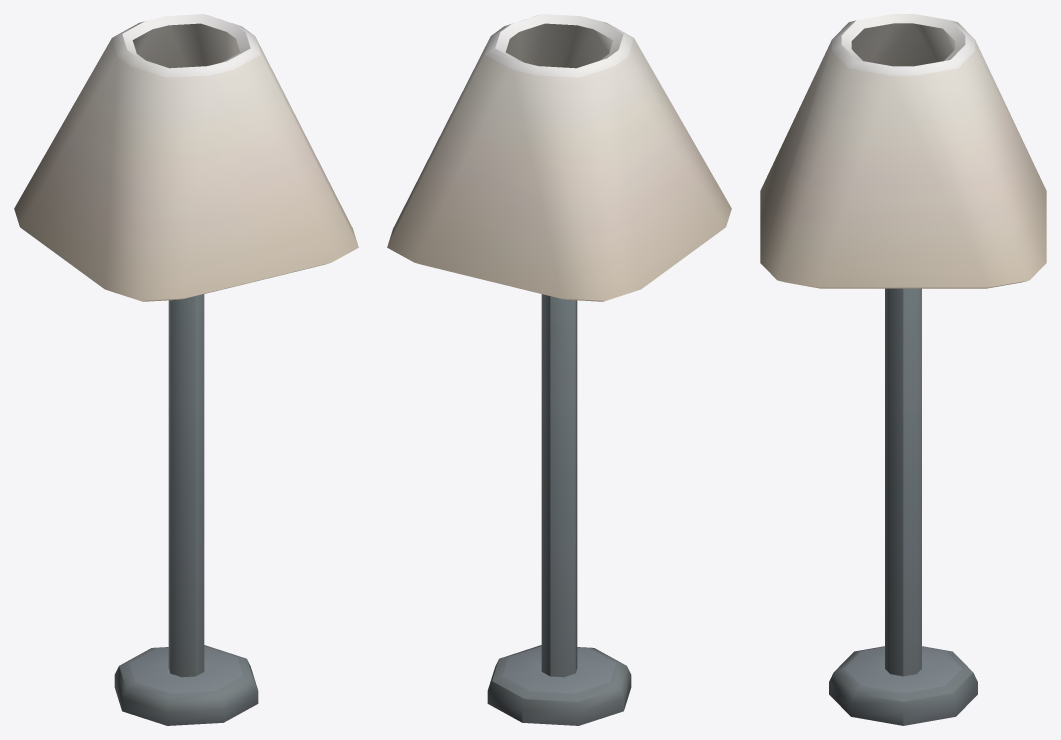
File: lamp_standing.glb
3 views of the same model, side by side, from view 1: azimuth 30°, elevation 25°; view 2: azimuth 150°, elevation 25°; view 3: azimuth 270°, elevation 25° (orthographic).
Visible parts, largest first — view 1: lamp_standing; view 2: lamp_standing; view 3: lamp_standing.
Boxes of the visible parts, left/top/right/bottom form: lamp_standing: left=14, top=14, right=358, bottom=725; lamp_standing: left=387, top=14, right=731, bottom=725; lamp_standing: left=760, top=14, right=1046, bottom=725.
Bounding box in the file's own units: 1 × 2.52 × 1.
Materials: 1 (1 with a texture image).
